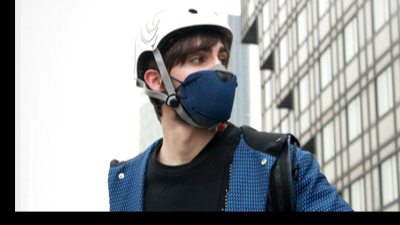with_mask: (168, 44, 237, 128)
